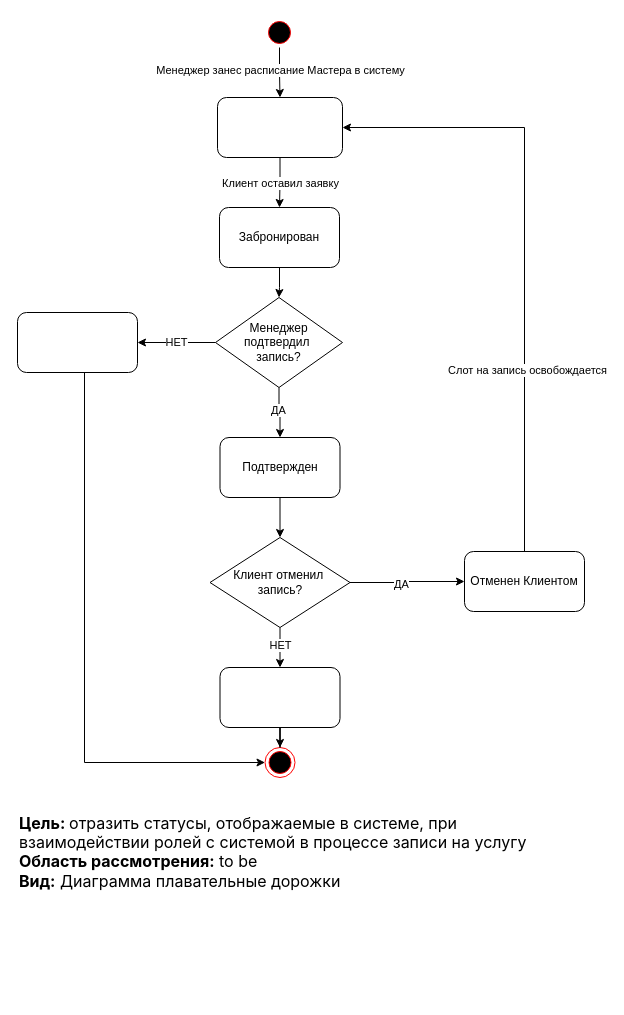
Some shapes in this 624 by 1015 pixel diagram are drawn without their labels. The box of each missing label's shape, as (x1, y1, x2, y2) in pixels:
Завершен: (219, 666, 340, 728)
Отменен Менеджером: (16, 312, 138, 372)
Свободен: (216, 96, 342, 158)
